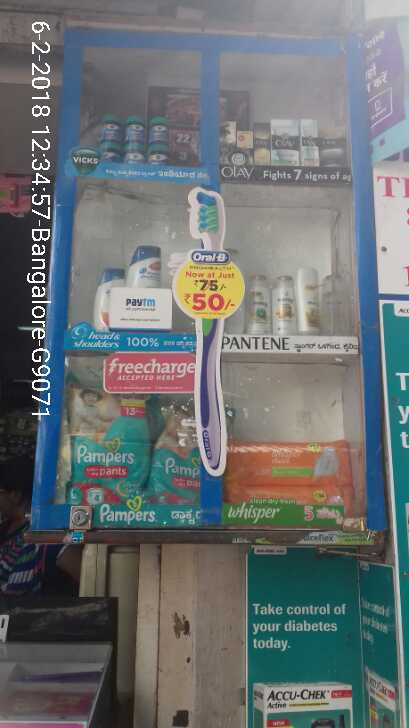beauty: (267, 270, 294, 340), (239, 261, 266, 329), (296, 267, 321, 336), (271, 119, 297, 163), (300, 119, 323, 162), (255, 120, 271, 166)
pharmacy: (60, 385, 147, 504), (146, 392, 198, 509), (94, 113, 169, 169)
